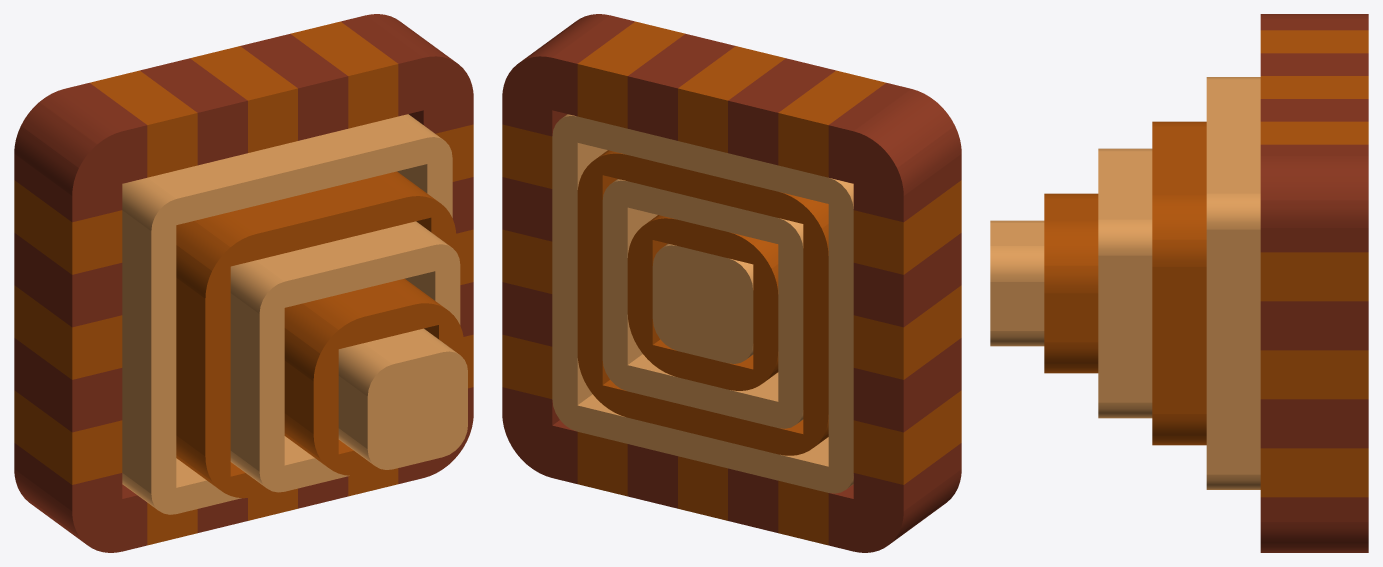
Rendered from TreeStump.glb.
3 renders of one model, left to right at view 1: azimuth 30°, elevation 25°; view 2: azimuth 150°, elevation 25°; view 3: azimuth 270°, elevation 25°, orthographic. The views are drawn at different scales.
Parts seen in each view (by area): view 1: generated(Clone); view 2: generated(Clone); view 3: generated(Clone).
Boxes of the visible parts, left/top/right/bottom form: generated(Clone): left=14, top=14, right=473, bottom=552; generated(Clone): left=502, top=14, right=961, bottom=552; generated(Clone): left=990, top=14, right=1368, bottom=552.
Bounding box in the file's own units: 16 × 16 × 14.
